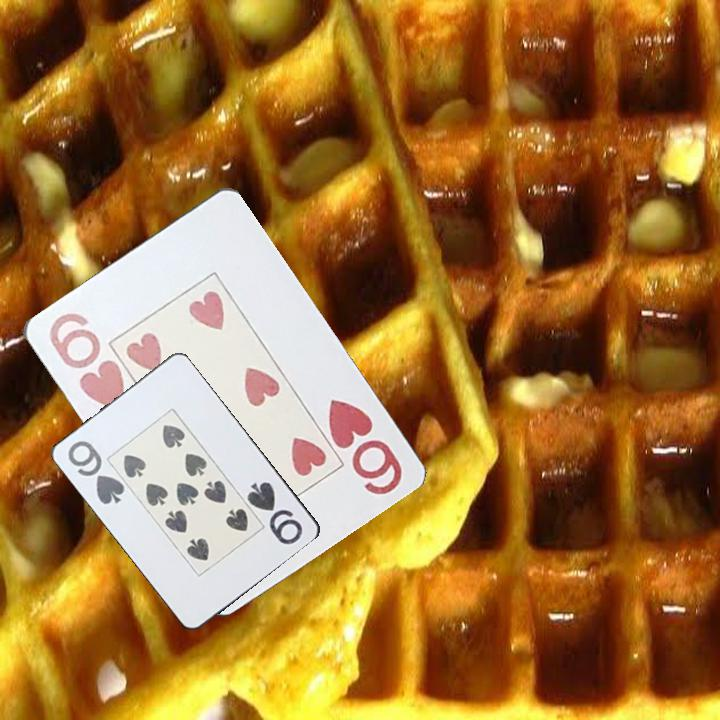6h: (44, 308, 128, 413), (323, 395, 405, 498)
9s: (64, 437, 129, 508), (244, 478, 306, 548)
